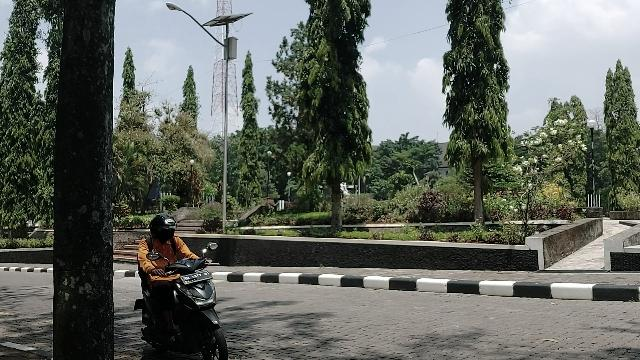helm: (150, 213, 178, 245)
motor: (134, 242, 230, 360)
